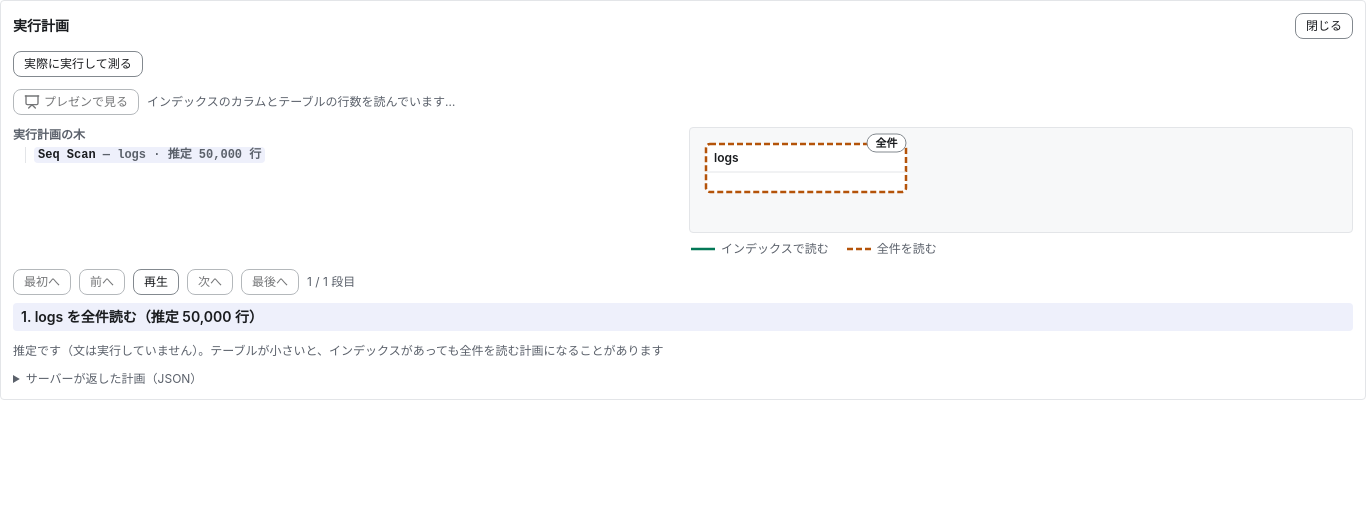
Test: PlanView › run and measure › asks first, runs once however often pressed, and shows each step beside its estimate
Click the button "実際に実行して測る" at coordinates (78, 64), box [13, 51, 143, 77]
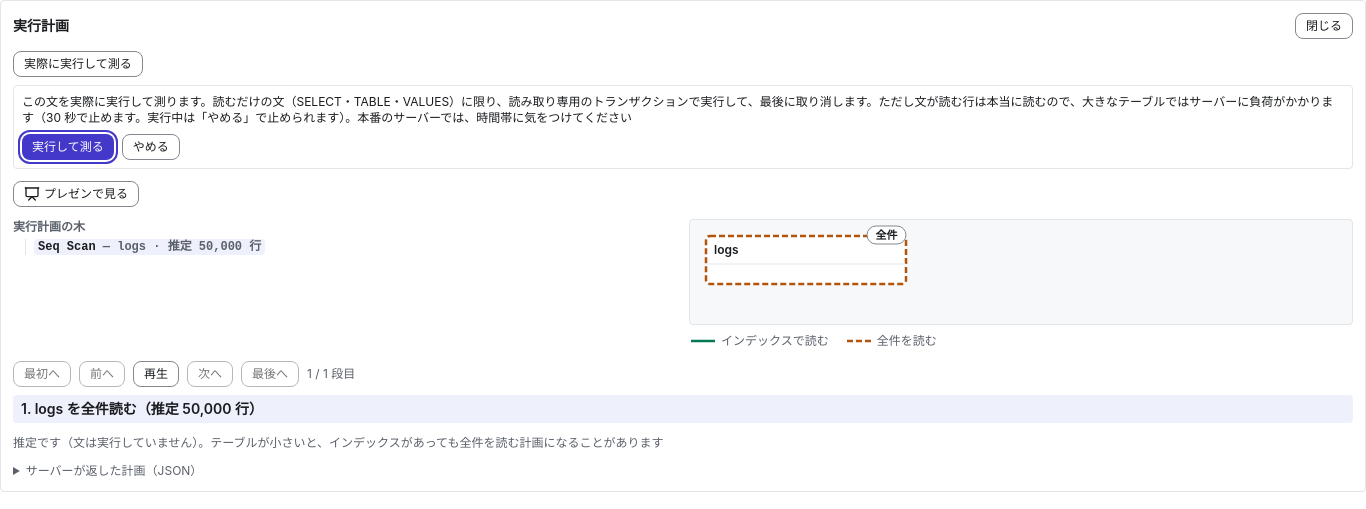
# Pressed twice in one frame: one run.
Click the button "実行して測る" at coordinates (68, 147), box [22, 134, 114, 160]
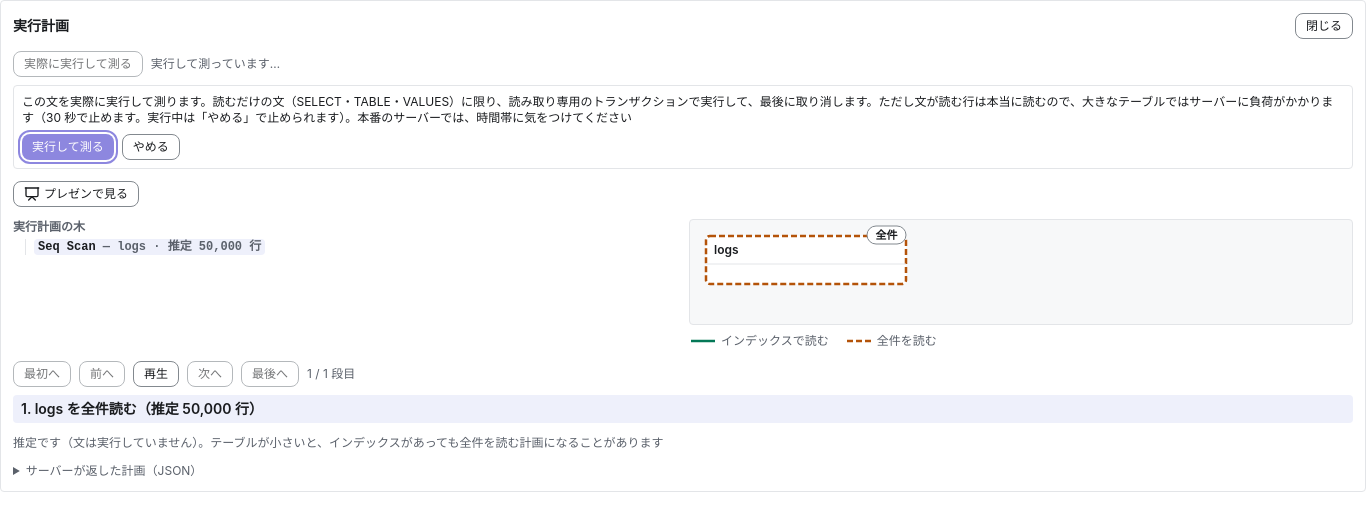
Click the button "実行して測る" at coordinates (68, 147), box [22, 134, 114, 160]
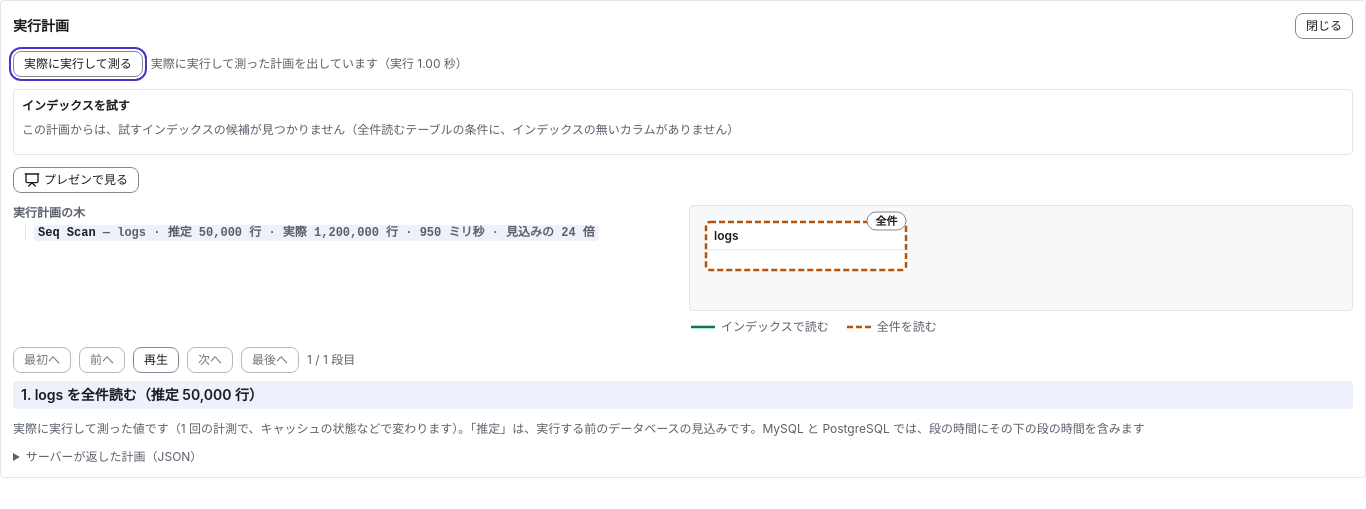
Expected: the text "実際に実行して測った値です（1 回の計測で、キャッシュの状態などで変わります）。「推定」は、実行する前のデータベースの見込みです。MySQL と PostgreSQL では、段の時間にその下の段の時間を含みます" is shown, [13, 421, 1145, 436]
Expected: the element "実行して測る前の確認" is gone
